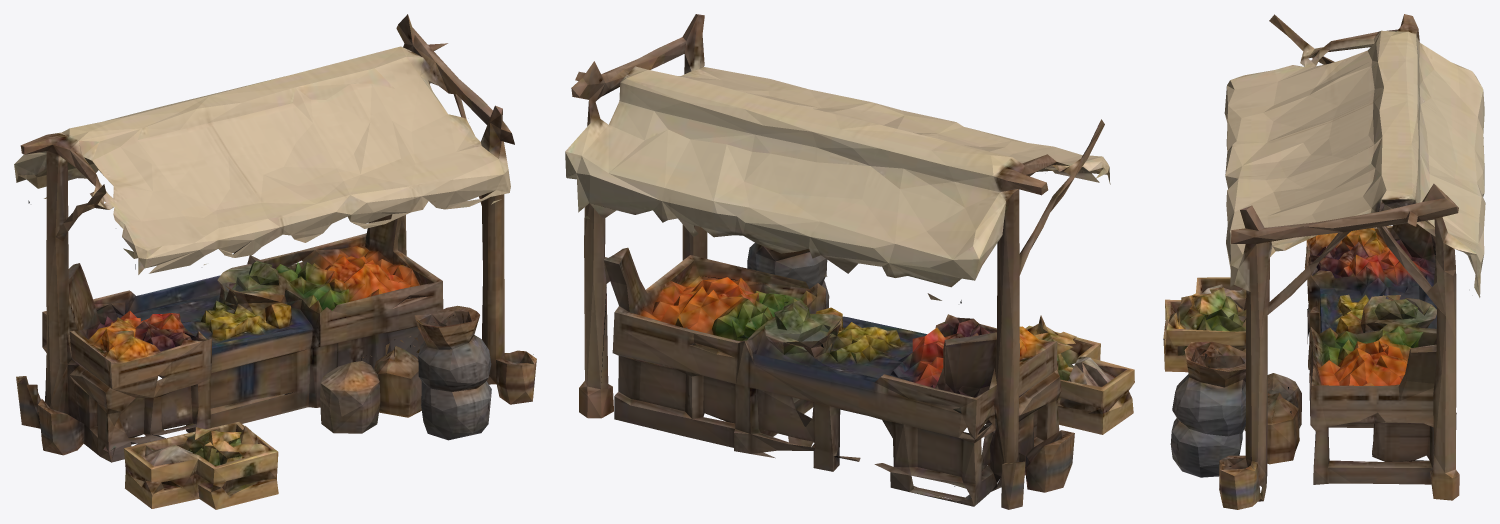
Rendered from stall_fruit_cream_lod0.glb.
3 renders of one model, left to right at view 1: azimuth 30°, elevation 25°; view 2: azimuth 150°, elevation 25°; view 3: azimuth 270°, elevation 25°, orthographic. The views are drawn at different scales.
Visible parts, largest first — view 1: stall_fruit_cream_lod0; view 2: stall_fruit_cream_lod0; view 3: stall_fruit_cream_lod0.
Part boxes in pixels (x1=…): stall_fruit_cream_lod0: x1=14, y1=14, x2=536, y2=509; stall_fruit_cream_lod0: x1=565, y1=14, x2=1134, y2=509; stall_fruit_cream_lod0: x1=1163, y1=14, x2=1485, y2=509.
Size of the model in its own units: 4 by 2.83 by 2.61.
Materials: 1 (1 with a texture image).
